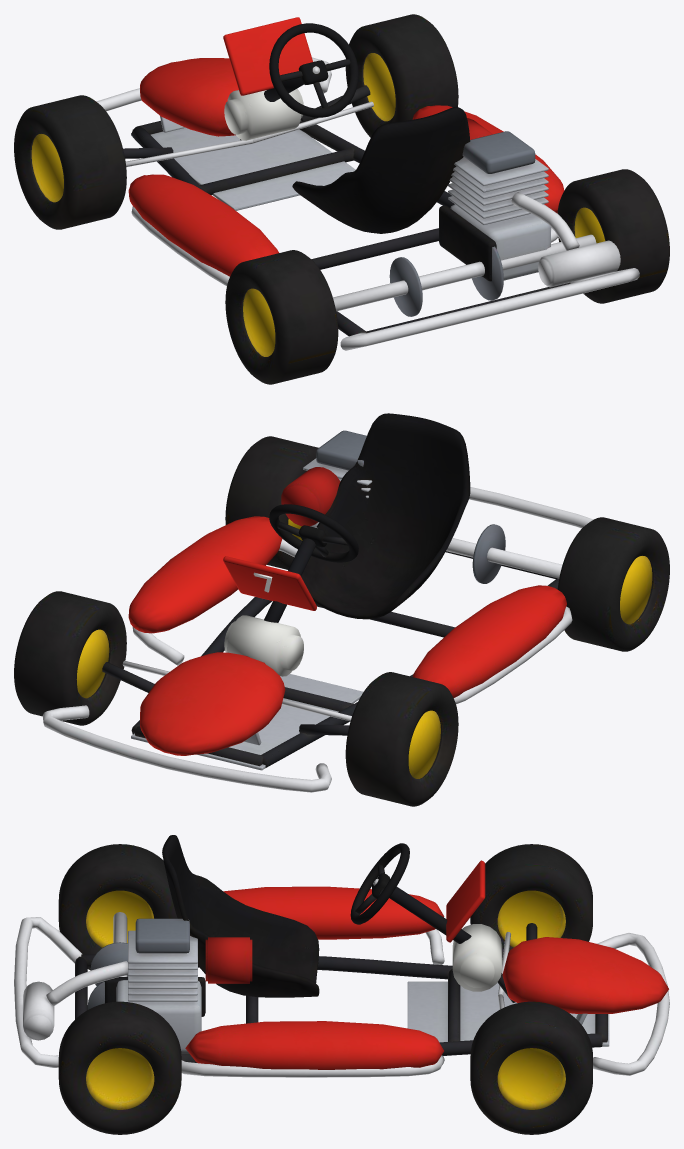
File: GoKart.glb
The picture shows the model from 3 angles, top to bottom: view 1: azimuth 30°, elevation 25°; view 2: azimuth 150°, elevation 25°; view 3: azimuth 270°, elevation 25°; orthographic projection. The views are drawn at different scales.
Parts seen in each view (by area): view 1: GoKart_Trim, GoKart_Body, GoKart_Wheel3, GoKart_Wheel1, GoKart_Wheel2, GoKart_Wheel4, GoKart_Steer; view 2: GoKart_Trim, GoKart_Body, GoKart_Wheel1, GoKart_Wheel3, GoKart_Wheel2, GoKart_Wheel4, GoKart_Steer, GoKart_Interior; view 3: GoKart_Trim, GoKart_Body, GoKart_Wheel4, GoKart_Wheel2, GoKart_Wheel1, GoKart_Wheel3, GoKart_Steer, GoKart_Interior.
Part boxes in pixels (<box>): GoKart_Trim: <box>96,57,639,350</box>; GoKart_Body: <box>128,17,564,276</box>; GoKart_Wheel3: <box>225,250,338,384</box>; GoKart_Wheel1: <box>14,95,126,229</box>; GoKart_Wheel2: <box>345,14,458,137</box>; GoKart_Wheel4: <box>557,169,669,303</box>; GoKart_Steer: <box>269,23,358,117</box>; GoKart_Trim: <box>42,413,593,792</box>; GoKart_Body: <box>128,516,566,755</box>; GoKart_Wheel1: <box>345,672,458,806</box>; GoKart_Wheel3: <box>557,517,669,651</box>; GoKart_Wheel2: <box>14,591,126,725</box>; GoKart_Wheel4: <box>225,436,318,569</box>; GoKart_Steer: <box>269,504,358,562</box>; GoKart_Interior: <box>264,538,315,622</box>; GoKart_Trim: <box>14,835,669,1077</box>; GoKart_Body: <box>185,860,668,1069</box>; GoKart_Wheel4: <box>58,1001,181,1134</box>; GoKart_Wheel2: <box>470,1001,592,1134</box>; GoKart_Wheel1: <box>470,844,592,959</box>; GoKart_Wheel3: <box>58,844,177,970</box>; GoKart_Steer: <box>350,843,409,924</box>; GoKart_Interior: <box>389,887,471,943</box>.
Size of the model in its own units: 5.68 by 2.8 by 8.45.
Materials: 8 (8 with a texture image).
